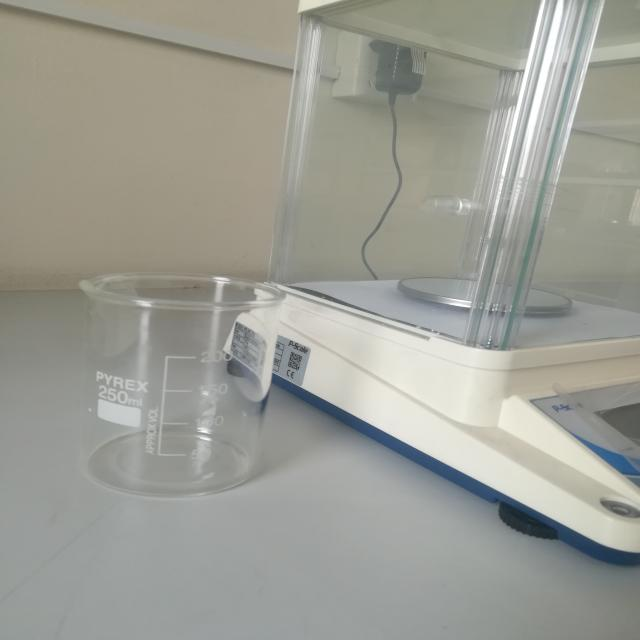Beaker: (52, 247, 320, 524)
